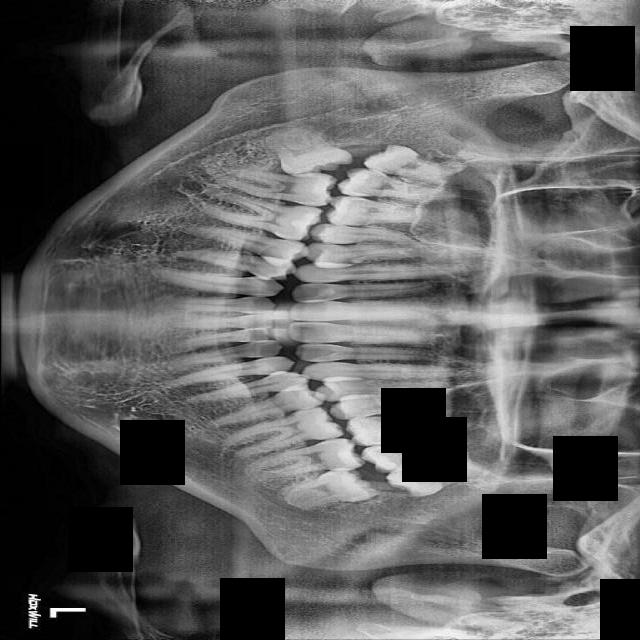3M ESPE Implant: (362, 140, 458, 186)
52: (356, 430, 417, 487), (310, 426, 366, 483), (266, 203, 324, 243), (335, 167, 388, 198)
73: (72, 603, 84, 609)
BioHorizons Implant: (359, 428, 490, 478)
BioLife Implant: (384, 453, 498, 501)
Biomet 3i Implant: (278, 462, 380, 514)
Blue Sky Bio Implant: (243, 436, 366, 482)
Caries: (334, 166, 458, 203)
Implant: (219, 165, 336, 208)
Keystone Dental Implant: (261, 110, 355, 186)
